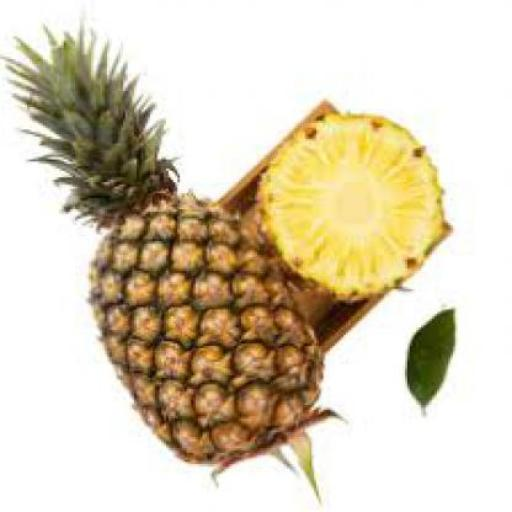biodegradable: (12, 18, 332, 478), (242, 109, 456, 301), (408, 304, 472, 412)
